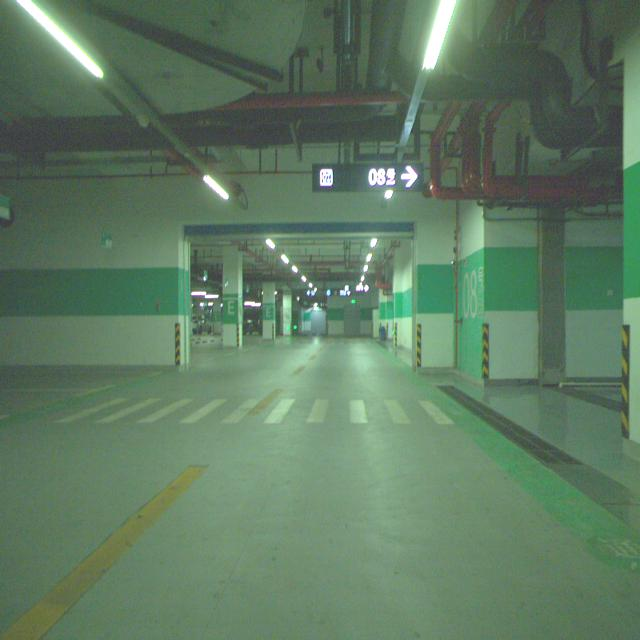pillar: (222, 245, 242, 347)
